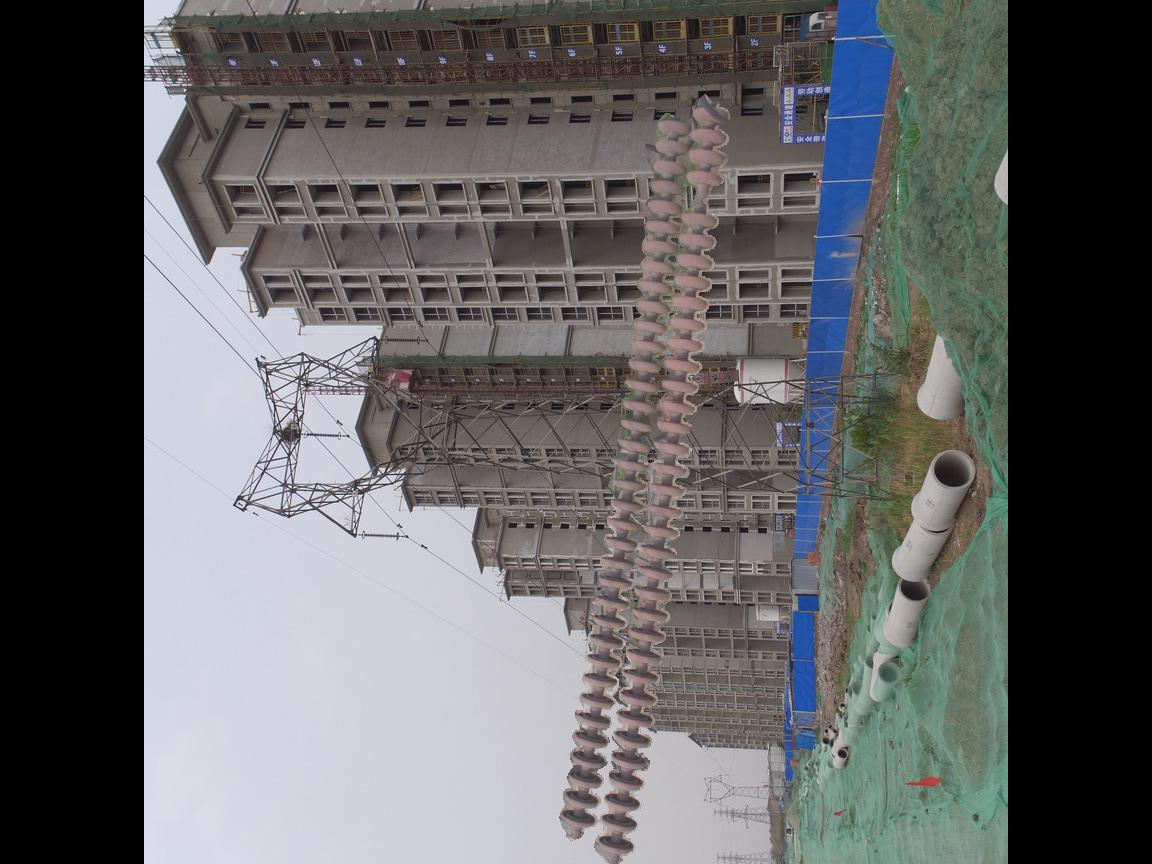insulator: (552, 93, 740, 861)
insulator_stringdrop: (678, 168, 728, 232)
